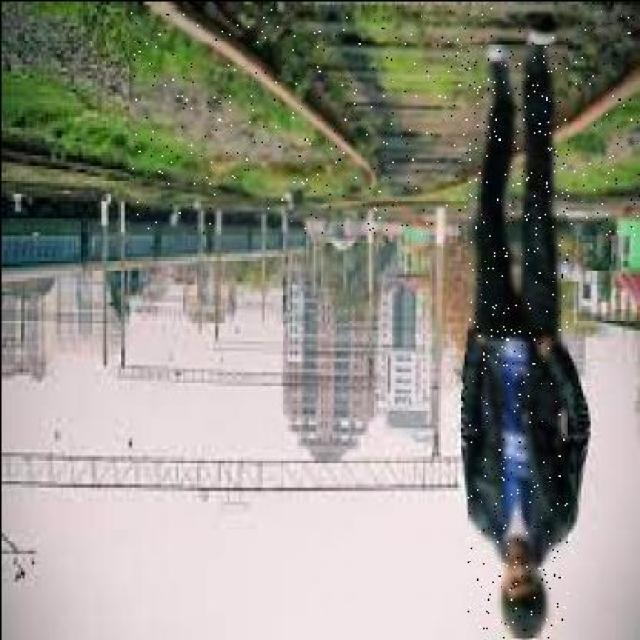danger: (466, 43, 566, 637)
rail: (132, 6, 638, 233)
